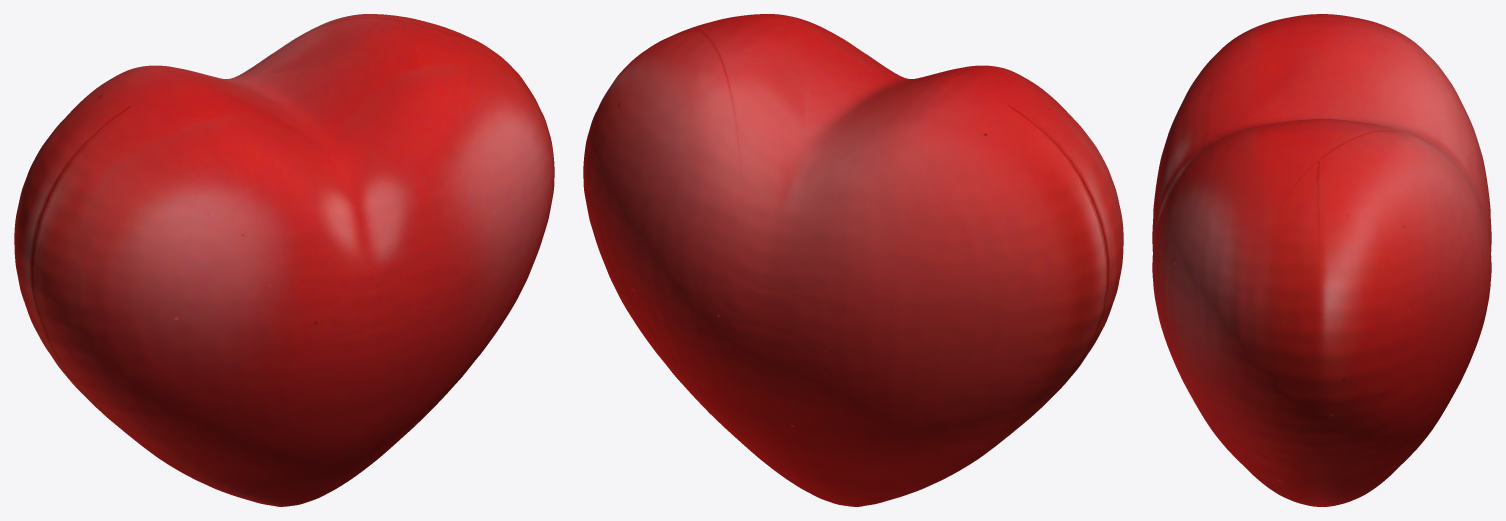
Rendered from hearth.glb.
The picture shows the model from 3 angles, left to right: view 1: azimuth 30°, elevation 25°; view 2: azimuth 150°, elevation 25°; view 3: azimuth 270°, elevation 25°; orthographic projection. The views are drawn at different scales.
Size of the model in its own units: 2 by 1.67 by 1.21.
Materials: 1 (1 with a texture image).
